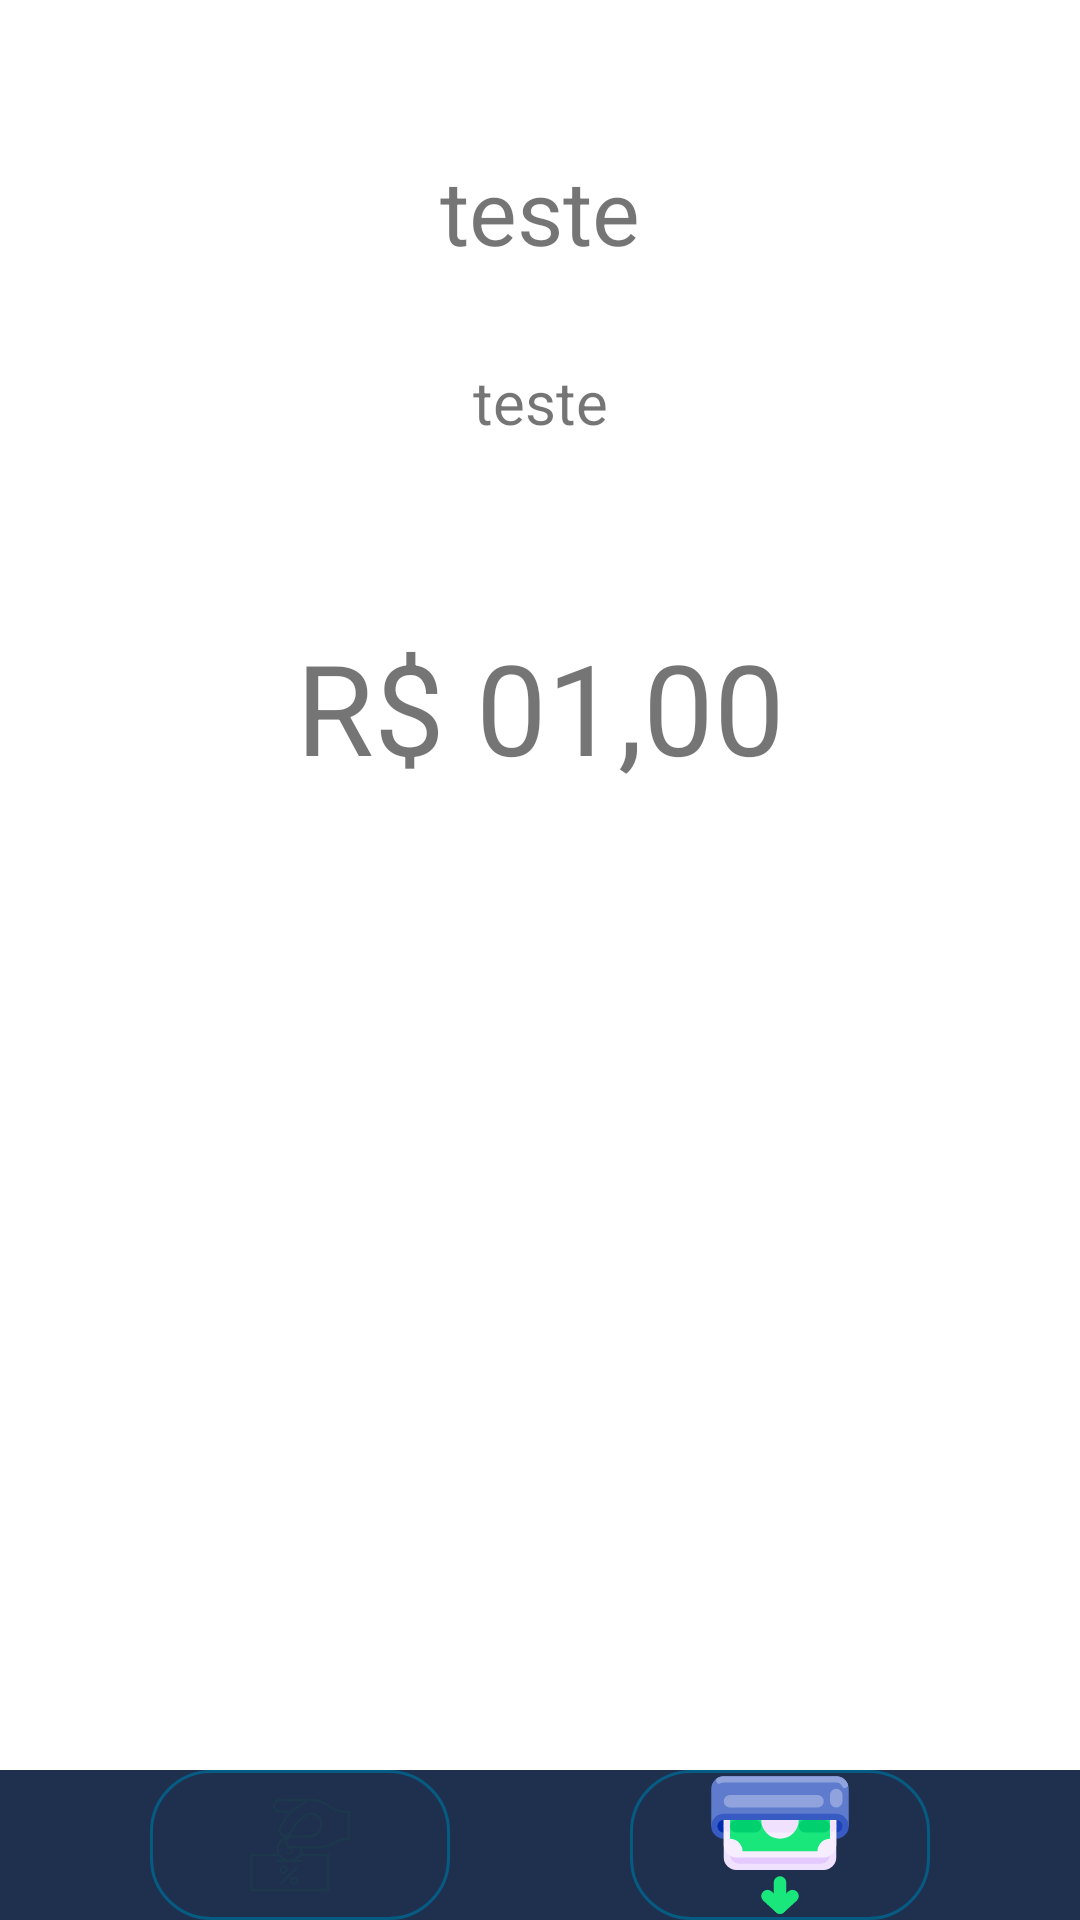

Icons on this 1080w x 1920h Android screen, each with the point to tap as (x=x, y=y):
withdraw: (x=780, y=1845)
